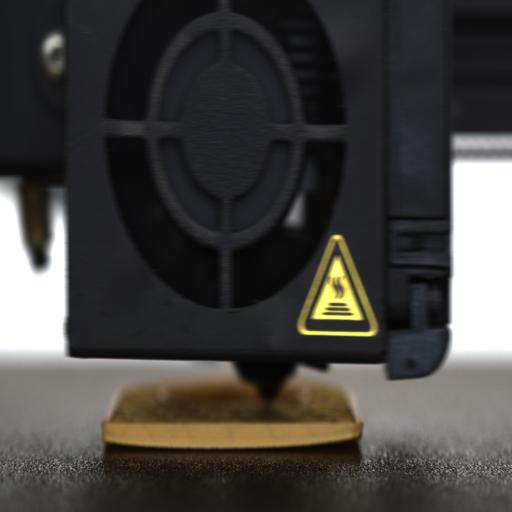warp: (101, 418, 183, 447), (280, 417, 364, 445)
